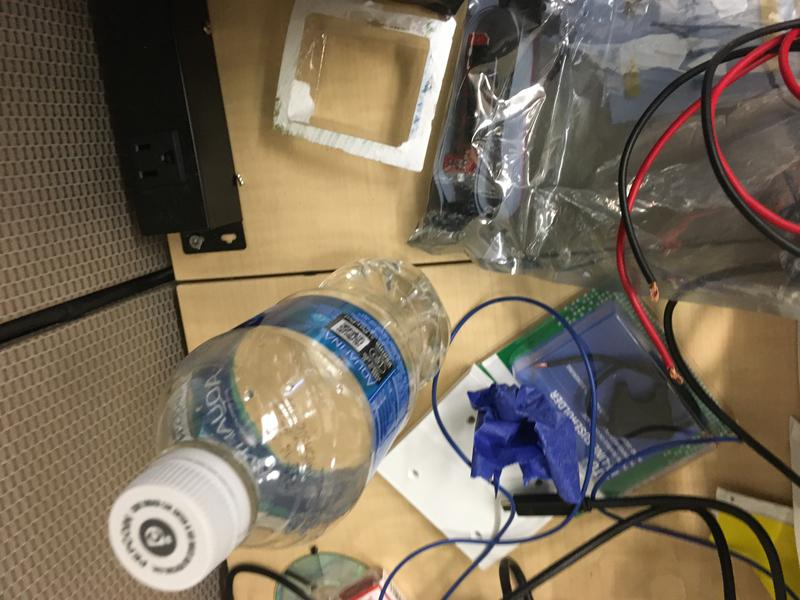bottle: (107, 256, 453, 596)
